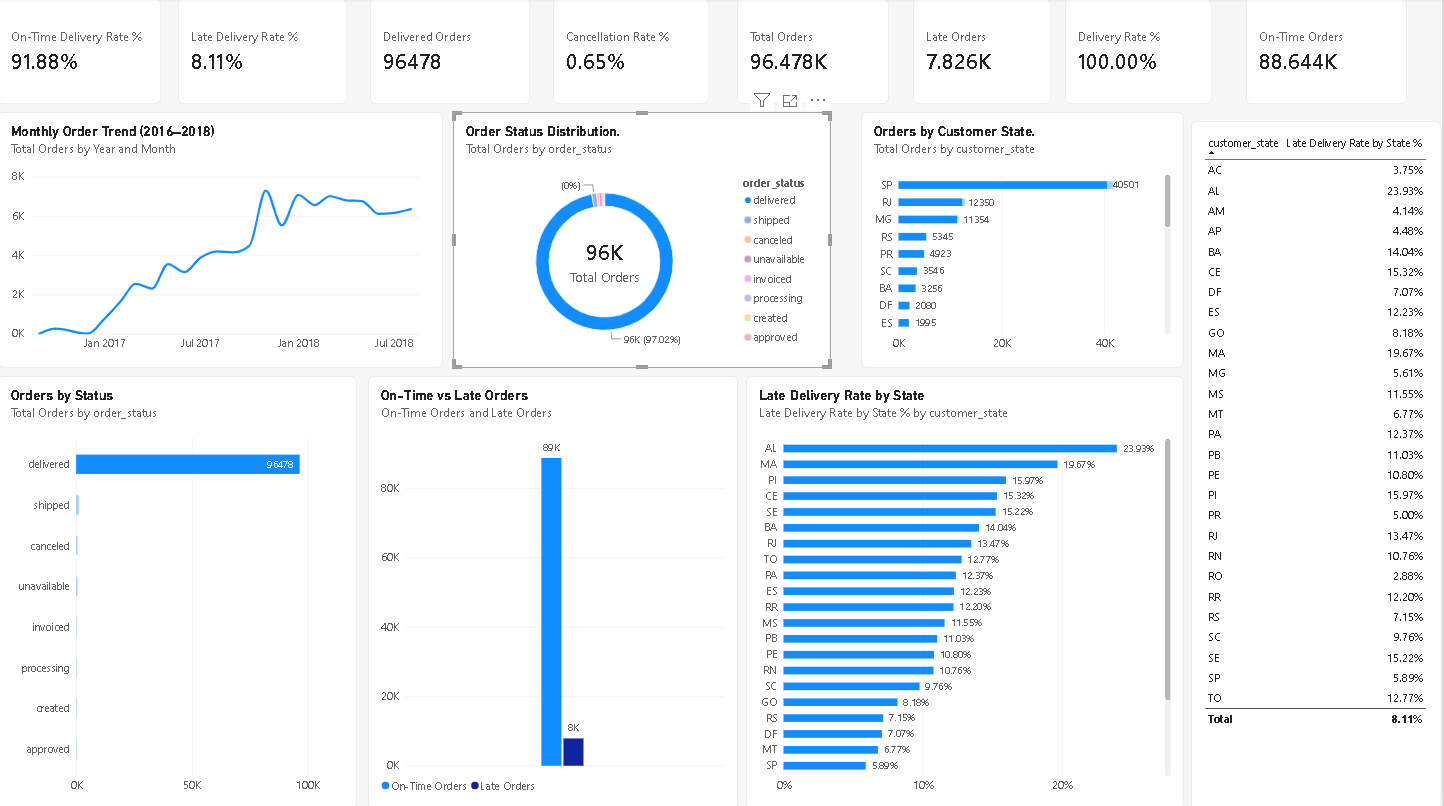

The dashboard page shown, as its layout file describes it:
{"tool":"powerbi","page":{"name":"Page 1","canvas":[1920,1080],"ordinal":0},"visuals":[{"type":"cardVisual","fields":{"Data":["olist_orders_dataset.Delivered Orders"]},"box":[494.6,0,213,141.5],"z":0},{"type":"cardVisual","fields":{"Data":["olist_orders_dataset.Total Orders"]},"box":[983.3,0,202.8,141.5],"z":1000},{"type":"cardVisual","fields":{"Data":["olist_orders_dataset.Delivery Rate %"]},"box":[1419.6,0,195.5,141.5],"z":2000},{"type":"cardVisual","fields":{"Data":["olist_orders_dataset.Cancellation Rate %"]},"box":[738.2,0,207.2,141.5],"z":3000},{"type":"cardVisual","title":"On-Time delivery rate","fields":{"Data":["olist_orders_dataset.On-Time Delivery Rate %"]},"box":[0,0,217.4,141.5],"z":4000},{"type":"cardVisual","fields":{"Data":["olist_orders_dataset.Late Orders"]},"box":[1216.8,0,183.8,141.5],"z":5000},{"type":"cardVisual","fields":{"Data":["olist_orders_dataset.Late Delivery Rate %"]},"box":[239.3,0,224.7,141.5],"z":6000},{"type":"clusteredBarChart","title":"Orders by Status","fields":{"Category":["olist_orders_dataset.order_status"],"Y":["olist_orders_dataset.Total Orders"]},"box":[0,503.3,477.1,576.3],"z":7000},{"type":"lineChart","title":"Monthly Order Trend (2016–2018)","fields":{"Category":["olist_orders_dataset.order_purchase_timestamp.Variation.Date Hierarchy.Year","olist_orders_dataset.order_purchase_timestamp.Variation.Date Hierarchy.Month"],"Y":["olist_orders_dataset.Total Orders"]},"box":[0,151.7,592.3,339.9],"z":8000},{"type":"clusteredColumnChart","title":"On-Time vs Late Orders","fields":{"Y":["olist_orders_dataset.On-Time Orders","olist_orders_dataset.Late Orders"]},"box":[491.7,503.3,491.7,576.3],"z":9000},{"type":"donutChart","title":"Order Status Distribution.","fields":{"Category":["olist_orders_dataset.order_status"],"Y":["olist_orders_dataset.Total Orders"]},"box":[605.5,151.7,501.9,339.9],"z":10000},{"type":"clusteredBarChart","title":"Orders by Customer State.","fields":{"Category":["olist_customers_dataset.customer_state"],"Y":["olist_orders_dataset.Total Orders"]},"box":[1148.2,151.7,428.9,339.9],"z":11000},{"type":"tableEx","fields":{"Values":["olist_customers_dataset.customer_state","olist_customers_dataset.Late Delivery Rate by State %"]},"box":[1587.4,163.4,332.6,916.2],"z":12000},{"type":"clusteredBarChart","title":"Late Delivery Rate by State","fields":{"Category":["olist_customers_dataset.customer_state"],"Y":["olist_customers_dataset.Late Delivery Rate by State %"]},"box":[995,503.3,582.1,576.3],"z":13000},{"type":"cardVisual","fields":{"Data":["olist_orders_dataset.On-Time Orders"]},"box":[1660.3,0,214.5,141.5],"z":13001}]}

Visuals, with their boxes in screenshot pixels (x1, y1, x2, y2), scaled from the page's 1920x1080 canvas onto the 1444x806 screenshot:
cardVisual - olist_orders_dataset.Delivered Orders: (left=372, top=0, right=532, bottom=106)
cardVisual - olist_orders_dataset.Total Orders: (left=740, top=0, right=892, bottom=106)
cardVisual - olist_orders_dataset.Delivery Rate %: (left=1068, top=0, right=1215, bottom=106)
cardVisual - olist_orders_dataset.Cancellation Rate %: (left=555, top=0, right=711, bottom=106)
"On-Time delivery rate" cardVisual: (left=0, top=0, right=164, bottom=106)
cardVisual - olist_orders_dataset.Late Orders: (left=915, top=0, right=1053, bottom=106)
cardVisual - olist_orders_dataset.Late Delivery Rate %: (left=180, top=0, right=349, bottom=106)
"Orders by Status" clusteredBarChart: (left=0, top=376, right=359, bottom=805)
"Monthly Order Trend (2016–2018)" lineChart: (left=0, top=113, right=445, bottom=367)
"On-Time vs Late Orders" clusteredColumnChart: (left=370, top=376, right=740, bottom=805)
"Order Status Distribution." donutChart: (left=455, top=113, right=833, bottom=367)
"Orders by Customer State." clusteredBarChart: (left=864, top=113, right=1186, bottom=367)
tableEx - olist_customers_dataset.customer_state x olist_customers_dataset.Late Delivery Rate by State %: (left=1194, top=122, right=1443, bottom=805)
"Late Delivery Rate by State" clusteredBarChart: (left=748, top=376, right=1186, bottom=805)
cardVisual - olist_orders_dataset.On-Time Orders: (left=1249, top=0, right=1410, bottom=106)
